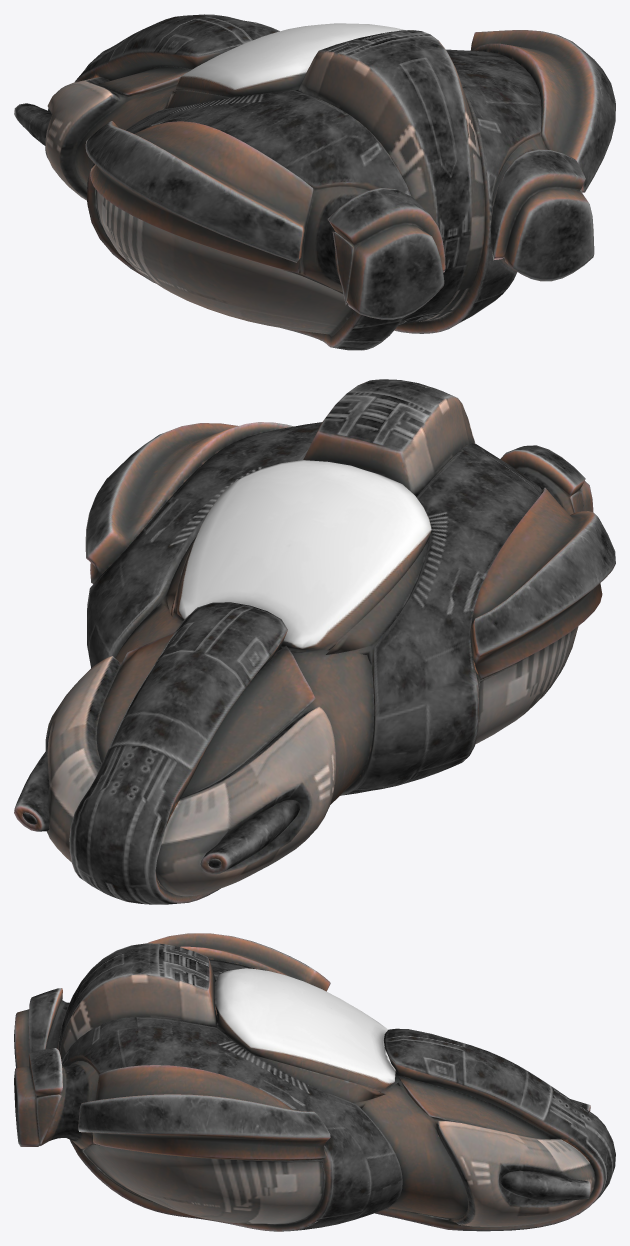
Rendered from hero_ship.glb.
3 renders of one model, top to bottom at view 1: azimuth 30°, elevation 25°; view 2: azimuth 150°, elevation 25°; view 3: azimuth 270°, elevation 25°, orthographic. The views are drawn at different scales.
Parts seen in each view (by area): view 1: Object_2, Object_3; view 2: Object_2, Object_3; view 3: Object_2, Object_3.
Part boxes in pixels (<box>): Object_2: <box>14,14,615,350</box>; Object_3: <box>45,43,545,292</box>; Object_2: <box>14,379,615,904</box>; Object_3: <box>47,422,545,896</box>; Object_2: <box>14,933,615,1231</box>; Object_3: <box>63,946,595,1226</box>.
Bounding box in the file's own units: 1.54 × 1.02 × 2.11.
Materials: 1 (1 with a texture image).
